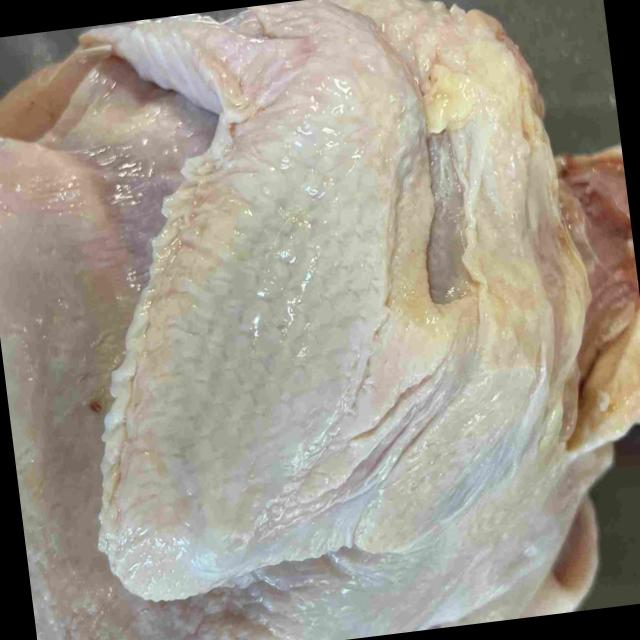back: (102, 482, 510, 640)
leg: (0, 137, 124, 640)
wing: (79, 2, 470, 601), (427, 501, 598, 629)
